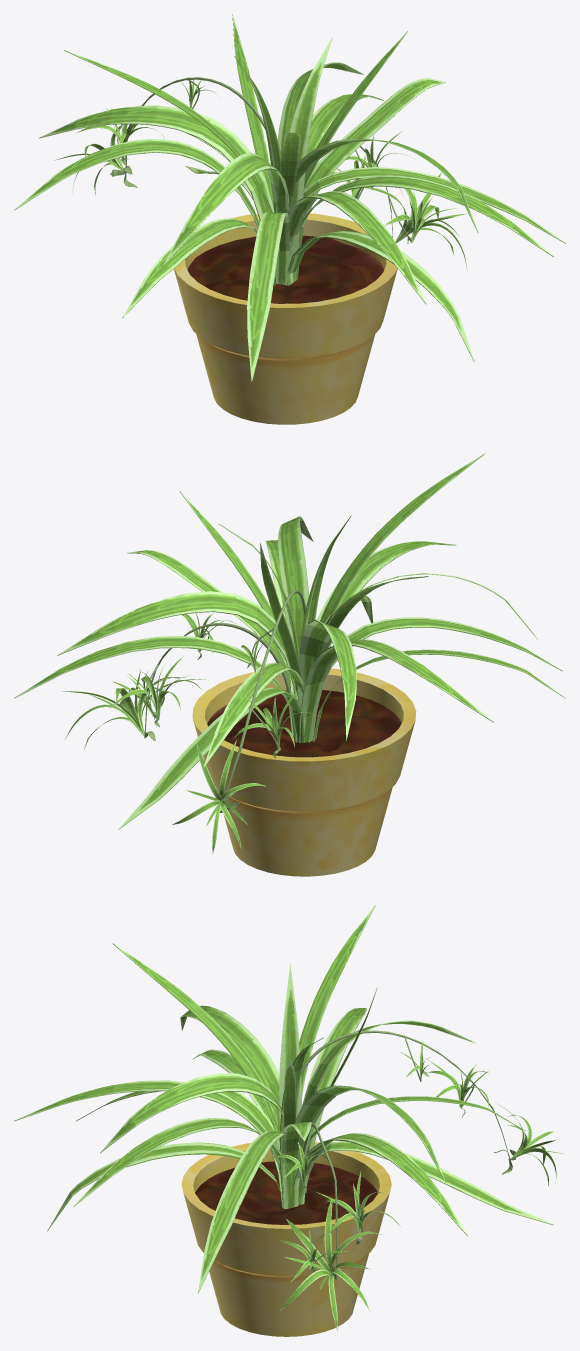
File: Chlorophytum_good_Perfect_Leaves.glb
3 views of the same model, one above another, from view 1: azimuth 30°, elevation 25°; view 2: azimuth 150°, elevation 25°; view 3: azimuth 270°, elevation 25° (orthographic). The views are drawn at different scales.
Parts seen in each view (by area): view 1: Plant, Pot; view 2: Plant, Pot; view 3: Plant, Pot.
Part boxes in pixels (x1=…): Plant: x1=14, y1=14, x2=565, y2=382; Pot: x1=174, y1=213, x2=397, y2=424; Plant: x1=14, y1=453, x2=565, y2=853; Pot: x1=192, y1=668, x2=416, y2=876; Plant: x1=14, y1=905, x2=564, y2=1331; Pot: x1=181, y1=1142, x2=391, y2=1336.
Bounding box in the file's own units: 4.83 × 3.49 × 5.38.
Materials: 23 (22 with a texture image).
